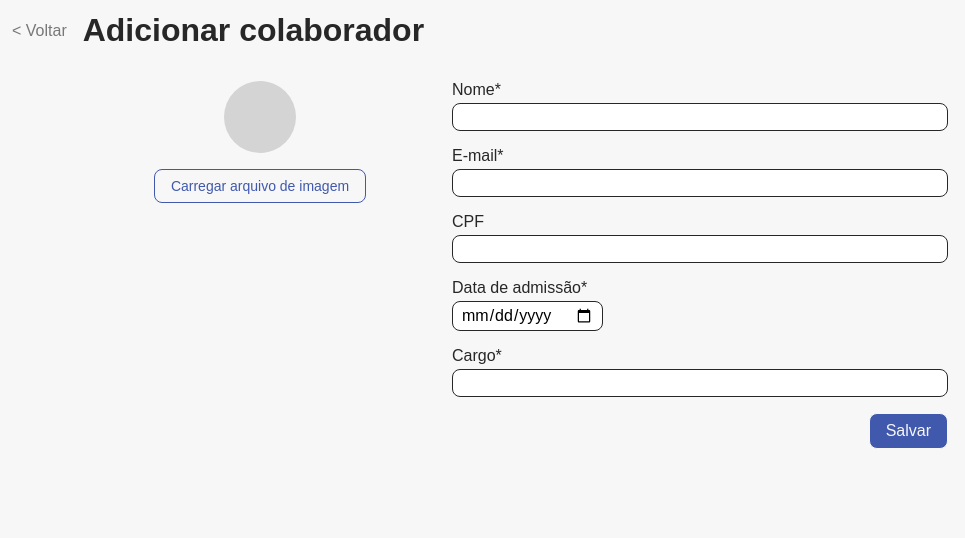
Test: <AddUserPage /> › should catch required fields errors on submit
This screenshot has width=965, height=538.
Step 1. Click the button "Salvar" → (908, 431), box [869, 413, 948, 449]
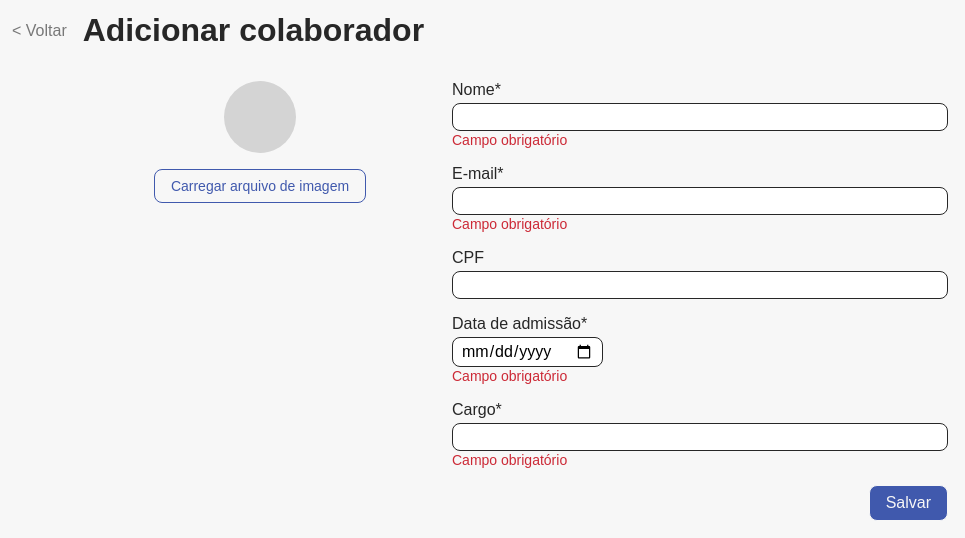
Expected: the text "Campo obrigatório" is shown 4 times, [452, 132, 567, 148]; [452, 216, 567, 232]; [452, 368, 567, 384]; [452, 452, 567, 468]
Expected: the text "Campo obrigatório" below "Nome" is shown, [452, 132, 567, 148]
Expected: the text "Campo obrigatório" below "E-mail" is shown, [452, 216, 567, 232]
